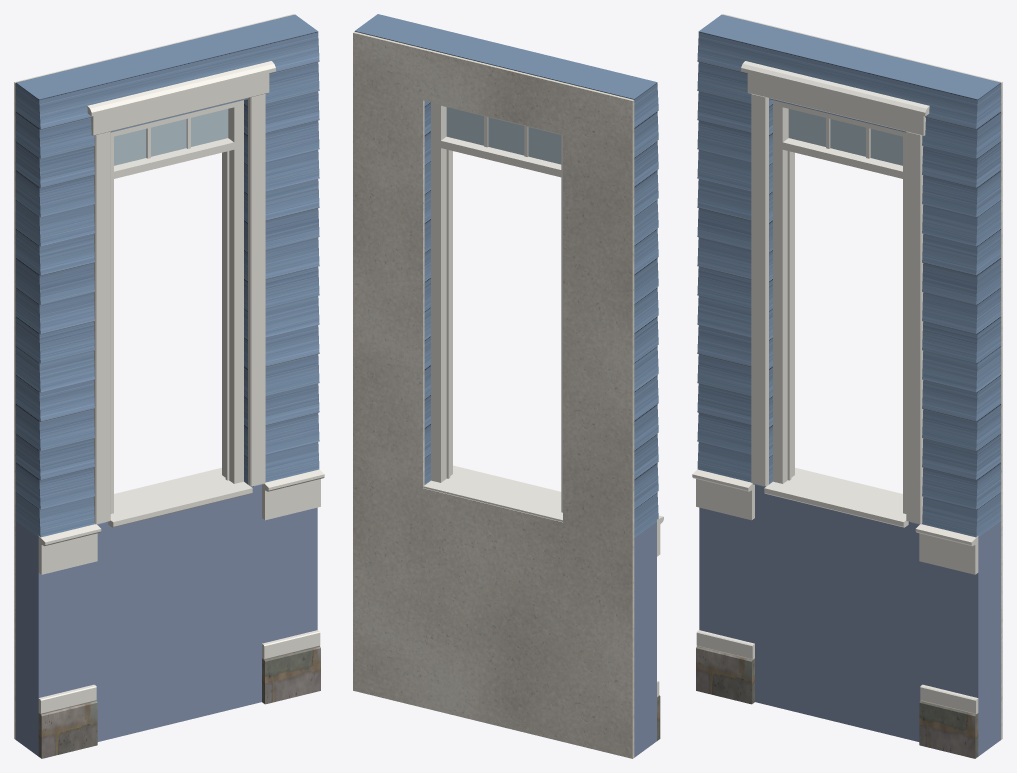
The model's file is b_g_door_d.glb.
3 renders of one model, left to right at view 1: azimuth 30°, elevation 25°; view 2: azimuth 150°, elevation 25°; view 3: azimuth 330°, elevation 25°, orthographic.
Visible parts, largest first — view 1: b_g_door_d_siding_d, b_g_door_d_acc_d, b_g_door_d_trim, b_g_door_d_frame, b_g_door_d_plinth, b_g_door_d_glass, b_g_door_d_plaster; view 2: b_g_door_d_plaster, b_g_door_d_siding_d, b_g_door_d_frame, b_g_door_d_acc_d, b_g_door_d_trim, b_g_door_d_glass; view 3: b_g_door_d_siding_d, b_g_door_d_acc_d, b_g_door_d_trim, b_g_door_d_frame, b_g_door_d_plinth, b_g_door_d_glass, b_g_door_d_plaster.
Boxes of the visible parts, left/top/right/bottom form: b_g_door_d_siding_d: left=16, top=14, right=319, bottom=537; b_g_door_d_acc_d: left=16, top=485, right=317, bottom=756; b_g_door_d_trim: left=38, top=61, right=324, bottom=713; b_g_door_d_frame: left=110, top=100, right=243, bottom=513; b_g_door_d_plinth: left=38, top=646, right=320, bottom=758; b_g_door_d_glass: left=114, top=109, right=228, bottom=165; b_g_door_d_plaster: left=14, top=14, right=293, bottom=739; b_g_door_d_plaster: left=353, top=31, right=634, bottom=758; b_g_door_d_siding_d: left=354, top=14, right=658, bottom=537; b_g_door_d_frame: left=431, top=102, right=562, bottom=512; b_g_door_d_acc_d: left=634, top=522, right=656, bottom=757; b_g_door_d_trim: left=423, top=465, right=663, bottom=696; b_g_door_d_glass: left=446, top=107, right=561, bottom=164; b_g_door_d_siding_d: left=697, top=14, right=1000, bottom=537; b_g_door_d_acc_d: left=699, top=485, right=1000, bottom=756; b_g_door_d_trim: left=692, top=61, right=978, bottom=713; b_g_door_d_frame: left=773, top=100, right=906, bottom=513; b_g_door_d_plinth: left=696, top=646, right=978, bottom=758; b_g_door_d_glass: left=788, top=109, right=902, bottom=165; b_g_door_d_plaster: left=723, top=14, right=1002, bottom=739.
Size of the model in its own units: 2 by 4.5 by 0.385.
Materials: 7 (3 with a texture image).
